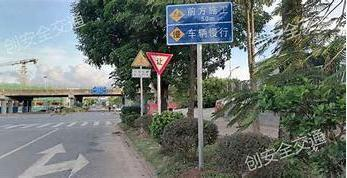sign: (166, 2, 231, 45)
